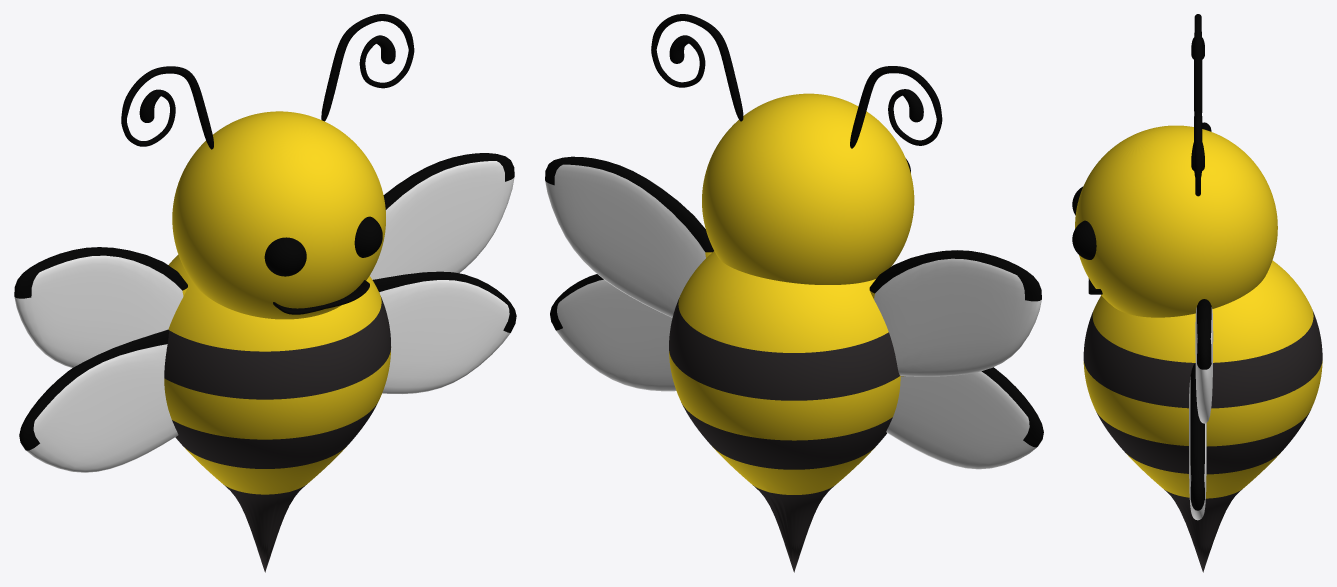
The model's file is bee.glb.
3 renders of one model, left to right at view 1: azimuth 30°, elevation 25°; view 2: azimuth 150°, elevation 25°; view 3: azimuth 270°, elevation 25°, orthographic. The views are drawn at different scales.
Parts seen in each view (by area): view 1: Sphere; view 2: Sphere; view 3: Sphere.
Part boxes in pixels (x1,y1,x2,y2): Sphere: (14, 14, 516, 572); Sphere: (545, 14, 1043, 572); Sphere: (1072, 14, 1322, 572).
Bounding box in the file's own units: 4.51 × 4.61 × 2.07.
